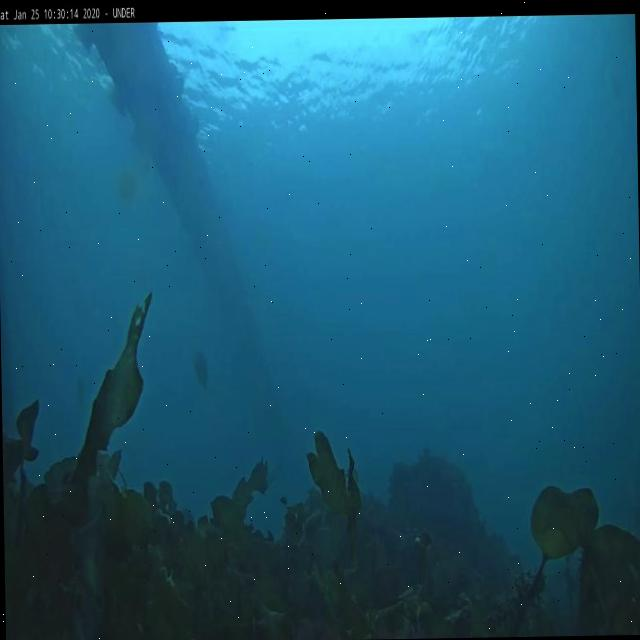fish: (189, 346, 212, 392)
